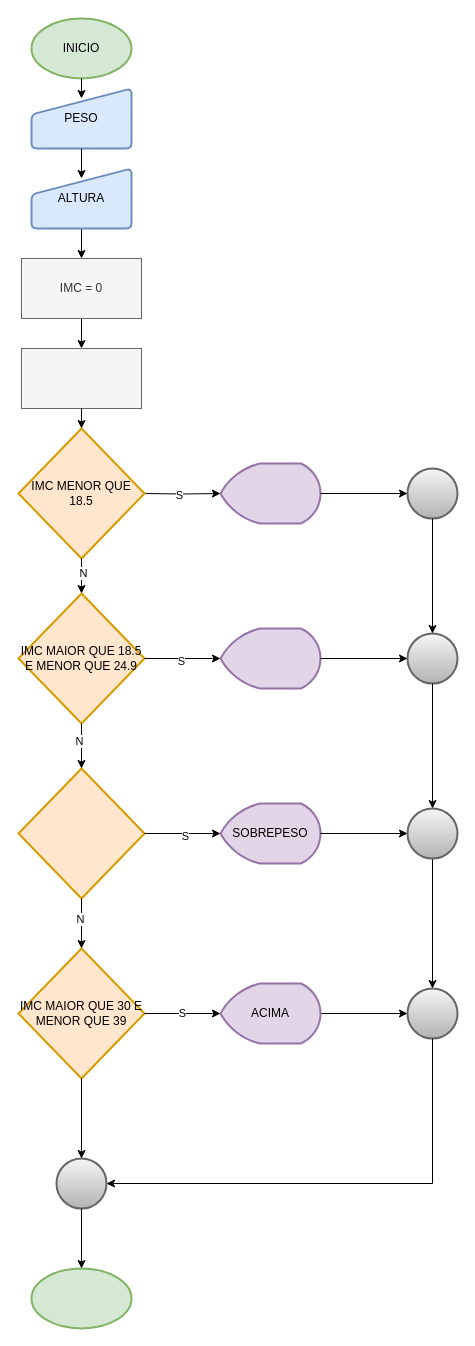
Image size: 475x1346. Some labels were removed from this diagram. Here are the shapes that lost their labels. From the top down, the centre of each, then its label:
(x=81, y=378): IMC = PESO * (ALTURA * ALTURA)
(x=270, y=493): ABAIXO
(x=270, y=658): NORMAL
(x=81, y=833): IMC MAIOR QUE 25 E MENOR QUE 29.9
(x=81, y=1298): FIM
